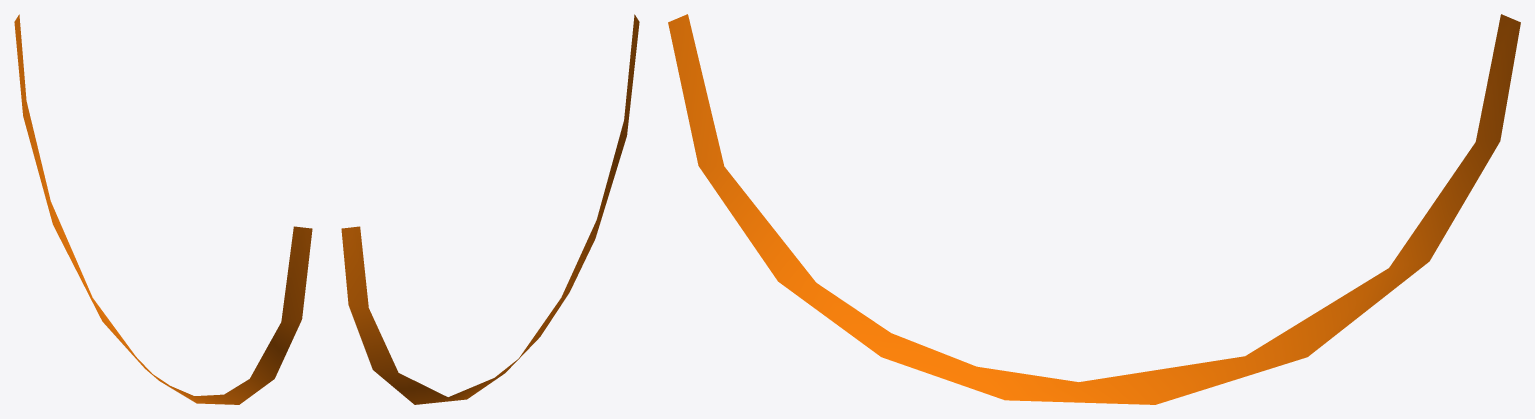
Rendered from original-13.obj.
3 renders of one model, left to right at view 1: azimuth 30°, elevation 25°; view 2: azimuth 150°, elevation 25°; view 3: azimuth 270°, elevation 25°, orthographic. The views are drawn at different scales.
Parts seen in each view (by area): view 1: Group13/mesh13/mesh13-geometry#mesh13-geometry; view 2: Group13/mesh13/mesh13-geometry#mesh13-geometry; view 3: Group13/mesh13/mesh13-geometry#mesh13-geometry.
Part boxes in pixels (x1,y1,x2,y2): Group13/mesh13/mesh13-geometry#mesh13-geometry: (14, 14, 312, 404); Group13/mesh13/mesh13-geometry#mesh13-geometry: (341, 14, 639, 404); Group13/mesh13/mesh13-geometry#mesh13-geometry: (668, 14, 1520, 404).
Size of the model in its own units: 0.00468 by 0.0991 by 0.2002.
